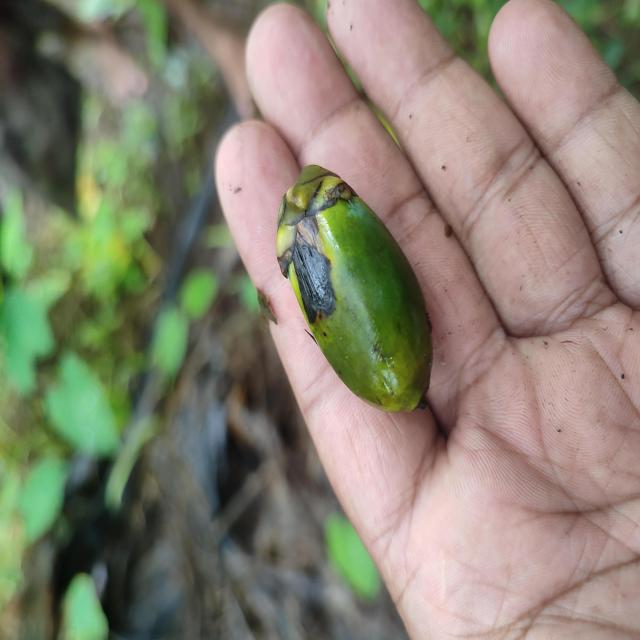damaged: (274, 166, 433, 416)
